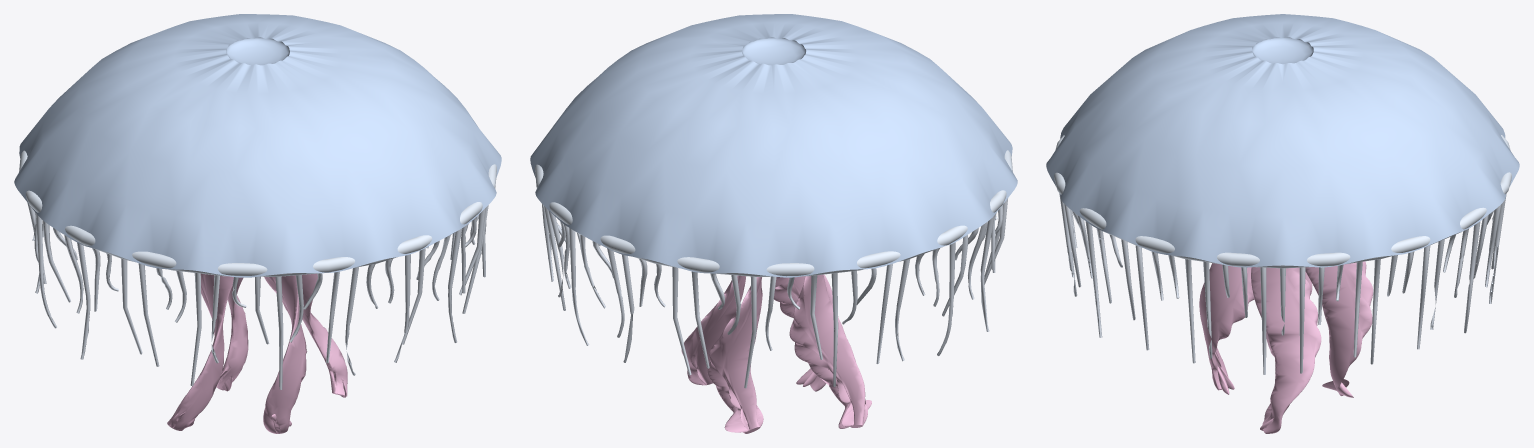
Rendered from moonjelly.glb.
3 views of the same model, side by side, from view 1: azimuth 30°, elevation 25°; view 2: azimuth 150°, elevation 25°; view 3: azimuth 270°, elevation 25° (orthographic). The views are drawn at different scales.
Visible parts, largest first — view 1: Bell, Tentacles, OralArms, Margin; view 2: Bell, OralArms, Tentacles, Margin; view 3: Bell, OralArms, Tentacles, Margin.
Boxes of the visible parts, left/top/right/bottom form: Bell: left=14, top=14, right=501, bottom=277; Tentacles: left=27, top=202, right=488, bottom=389; OralArms: left=167, top=273, right=347, bottom=433; Margin: left=19, top=150, right=496, bottom=276; Bell: left=530, top=14, right=1017, bottom=277; OralArms: left=681, top=274, right=871, bottom=433; Tentacles: left=542, top=198, right=1007, bottom=388; Margin: left=535, top=150, right=1012, bottom=276; Bell: left=1046, top=14, right=1519, bottom=267; OralArms: left=1199, top=261, right=1373, bottom=433; Tentacles: left=1059, top=194, right=1506, bottom=374; Margin: left=1054, top=135, right=1511, bottom=268.
Size of the model in its own units: 0.0642 by 0.0519 by 0.0642.
